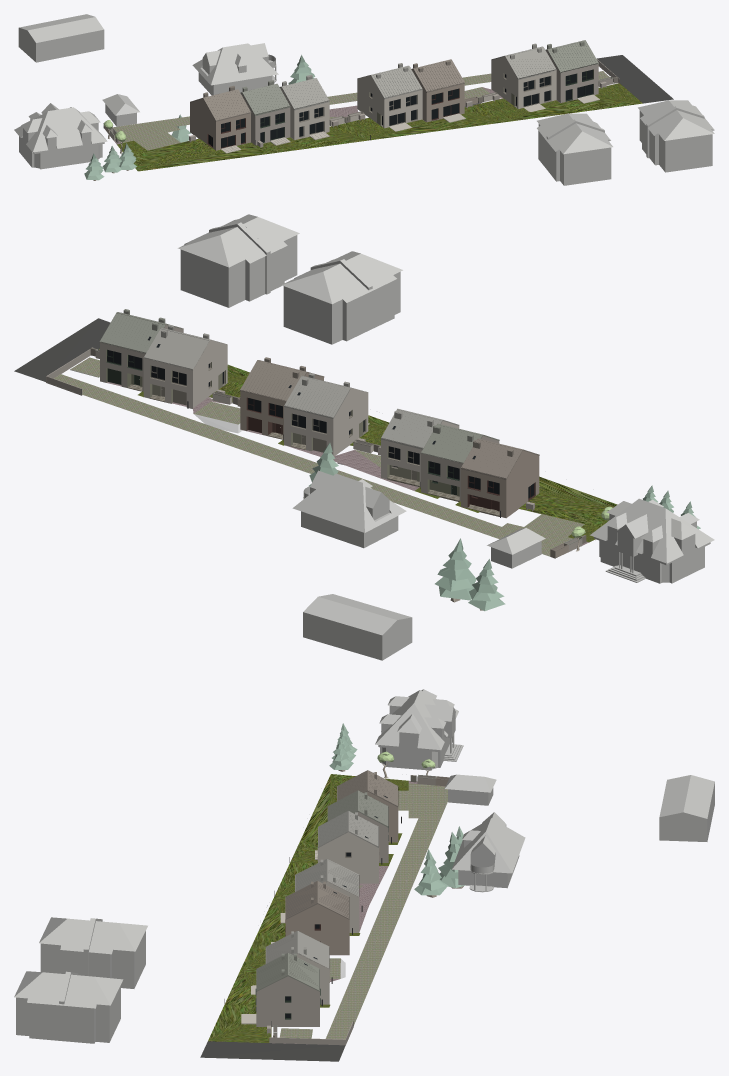
The model's file is bor2-zewnetrze-v5.glb.
3 renders of one model, top to bottom at view 1: azimuth 30°, elevation 25°; view 2: azimuth 150°, elevation 25°; view 3: azimuth 270°, elevation 25°, orthographic. The views are drawn at different scales.
Parts seen in each view (by area): view 1: ZIEMIA, KONTEKST_8, KONTEKST_4, KONTEKST_2, DOM_D, DOM_B, KONTEKST_6, KONTEKST_5, DOM_G, DOM_A, DOM_C, DOM_E (+7 smaller); view 2: ZIEMIA, KONTEKST_8, KONTEKST_3, KONTEKST_1, KONTEKST_6, DOM_B, DOM_D, KONTEKST_5, DOM_G, ZIELEN, DOM_A, DOM_C (+6 smaller); view 3: ZIEMIA, KONTEKST_8, DOM_A, KONTEKST_6, KONTEKST_3, DOM_C, KONTEKST_1, KONTEKST_5, DOM_E, KONTEKST_4, ZIELEN, KONTEKST_2 (+6 smaller).
Boxes of the visible parts, bbox=[...] form: ZIEMIA: bbox=[113, 55, 673, 171]; KONTEKST_8: bbox=[14, 103, 107, 169]; KONTEKST_4: bbox=[647, 107, 714, 172]; KONTEKST_2: bbox=[546, 120, 612, 185]; DOM_D: bbox=[357, 63, 422, 128]; DOM_B: bbox=[491, 43, 556, 108]; KONTEKST_6: bbox=[192, 43, 278, 95]; KONTEKST_5: bbox=[18, 14, 104, 62]; DOM_G: bbox=[190, 85, 251, 150]; DOM_A: bbox=[545, 40, 598, 102]; DOM_C: bbox=[411, 59, 464, 122]; DOM_E: bbox=[279, 74, 329, 139]; ZIEMIA: bbox=[14, 318, 617, 556]; KONTEKST_8: bbox=[590, 498, 714, 583]; KONTEKST_3: bbox=[178, 223, 268, 307]; KONTEKST_1: bbox=[281, 260, 371, 344]; KONTEKST_6: bbox=[292, 470, 406, 548]; DOM_B: bbox=[143, 325, 227, 408]; DOM_D: bbox=[284, 373, 368, 455]; KONTEKST_5: bbox=[303, 594, 412, 660]; DOM_G: bbox=[461, 438, 539, 518]; ZIELEN: bbox=[309, 443, 700, 611]; DOM_A: bbox=[99, 309, 183, 391]; DOM_C: bbox=[240, 357, 324, 439]; ZIEMIA: bbox=[200, 774, 447, 1061]; KONTEKST_8: bbox=[375, 689, 463, 770]; DOM_A: bbox=[255, 953, 320, 1026]; KONTEKST_6: bbox=[451, 812, 525, 892]; KONTEKST_3: bbox=[61, 972, 123, 1043]; DOM_C: bbox=[285, 881, 349, 954]; KONTEKST_1: bbox=[86, 918, 147, 988]; KONTEKST_5: bbox=[659, 775, 714, 841]; DOM_E: bbox=[317, 811, 379, 883]; KONTEKST_4: bbox=[14, 971, 68, 1040]; ZIELEN: bbox=[329, 723, 465, 897]; KONTEKST_2: bbox=[39, 917, 92, 975].
Bounding box in the file's own units: 121 × 19.44 × 110.
27 materials, 5 textured.
